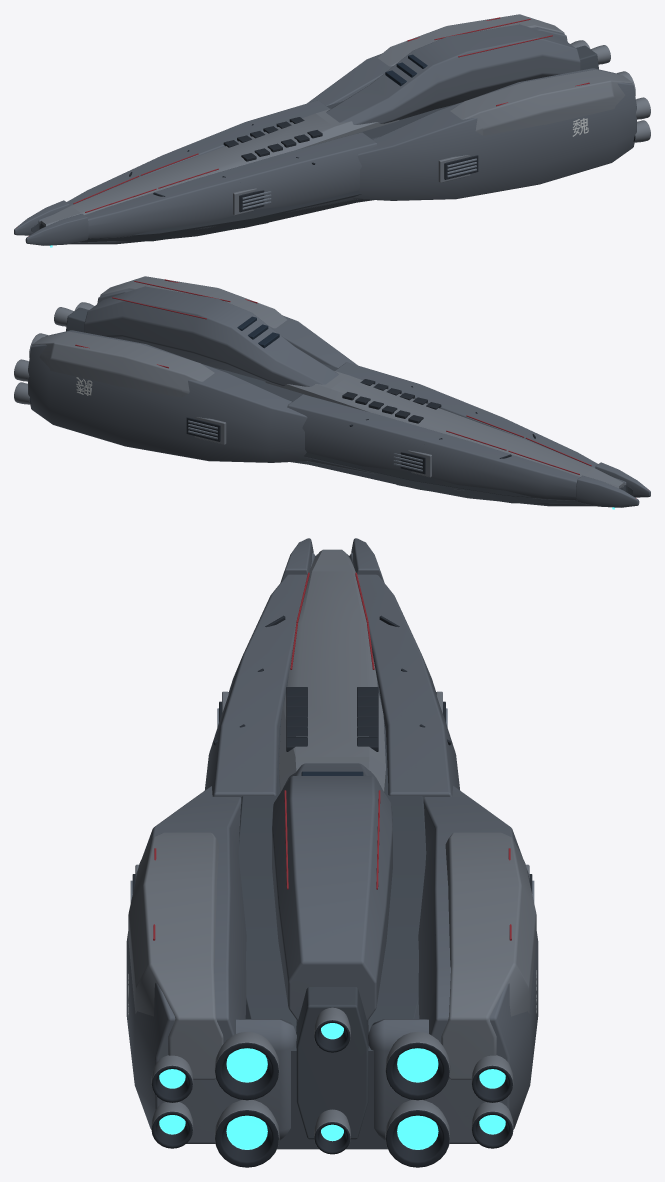
Rendered from wei-interceptor.glb.
3 views of the same model, one above another, from view 1: azimuth 30°, elevation 25°; view 2: azimuth 150°, elevation 25°; view 3: azimuth 270°, elevation 25° (orthographic). The views are drawn at different scales.
Visible parts, largest first — view 1: Swept aft outrigger, Raised armored cockpit spine, Faceted forward cheek armor, Outer nacelle upper plated cover, Knife-edge central dorsal prow, Dark pointed pressure hull, Faceted forward cheek armor.001, Outer nacelle upper plated cover.001, Swept aft outrigger.001, Reinforced forked prow tine, Reinforced forked prow tine.001, Dark radiator bed.001 (+1 smaller); view 2: Swept aft outrigger.001, Raised armored cockpit spine, Faceted forward cheek armor.001, Outer nacelle upper plated cover.001, Knife-edge central dorsal prow, Dark pointed pressure hull, Faceted forward cheek armor, Outer nacelle upper plated cover, Swept aft outrigger, Reinforced forked prow tine.001, Reinforced forked prow tine, Dark radiator bed.003 (+1 smaller); view 3: Raised armored cockpit spine, Dark pointed pressure hull, Outer nacelle upper plated cover.001, Outer nacelle upper plated cover, Knife-edge central dorsal prow, Swept aft outrigger, Swept aft outrigger.001, Faceted forward cheek armor, Faceted forward cheek armor.001, Aft center drive fairing, Primary aft engine.001, Primary aft engine.003 (+10 smaller).
Part boxes in pixels (x1,y1,x2,y2): Swept aft outrigger: (353,68,636,200); Raised armored cockpit spine: (326,24,580,124); Faceted forward cheek armor: (85,132,377,238); Outer nacelle upper plated cover: (450,69,632,135); Knife-edge central dorsal prow: (39,109,399,226); Dark pointed pressure hull: (31,101,457,242); Faceted forward cheek armor.001: (38,100,329,222); Outer nacelle upper plated cover.001: (377,14,564,66); Swept aft outrigger.001: (307,27,567,105); Reinforced forked prow tine: (25,213,88,245); Reinforced forked prow tine.001: (14,200,69,235); Dark radiator bed.001: (444,155,478,179); Swept aft outrigger.001: (28,330,311,462); Raised armored cockpit spine: (84,286,338,386); Faceted forward cheek armor.001: (287,394,579,500); Outer nacelle upper plated cover.001: (32,331,214,397); Knife-edge central dorsal prow: (265,371,625,488); Dark pointed pressure hull: (207,363,633,504); Faceted forward cheek armor: (335,362,626,484); Outer nacelle upper plated cover: (100,276,286,328); Swept aft outrigger: (97,289,357,367); Reinforced forked prow tine.001: (576,475,639,507); Reinforced forked prow tine: (595,462,650,497); Dark radiator bed.003: (186,417,220,441); Raised armored cockpit spine: (272,763,392,1021); Dark pointed pressure hull: (238,554,426,1149); Outer nacelle upper plated cover.001: (441,832,536,1079); Outer nacelle upper plated cover: (128,832,223,1079); Knife-edge central dorsal prow: (279,549,385,792); Swept aft outrigger: (126,786,246,1143); Swept aft outrigger.001: (418,786,538,1143); Faceted forward cheek armor: (204,553,315,797); Faceted forward cheek armor.001: (349,553,460,797); Aft center drive fairing: (296,987,368,1139); Primary aft engine.001: (214,1031,279,1100); Primary aft engine.003: (385,1031,450,1100).
Size of the model in its own units: 480 by 99.64 by 146.
